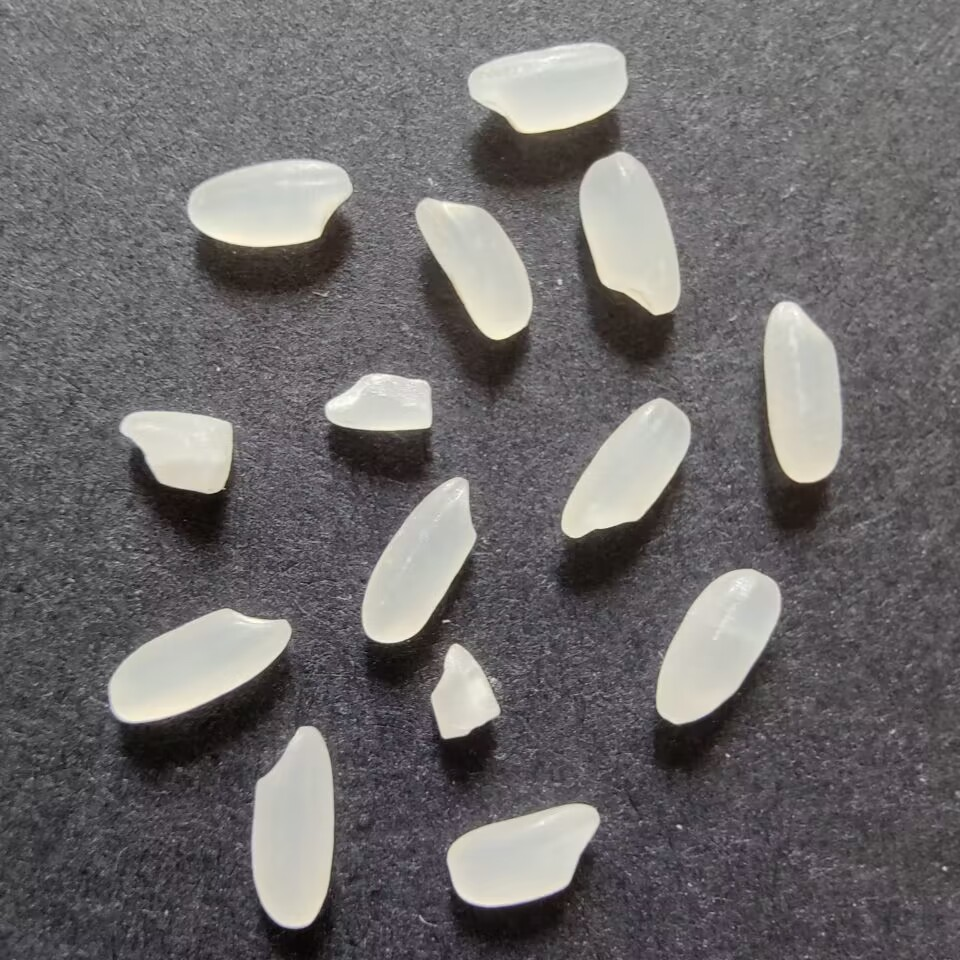broken: (114, 405, 238, 502), (424, 641, 507, 743), (318, 368, 435, 440)
rice: (104, 599, 300, 727), (651, 564, 784, 730), (358, 469, 481, 647), (554, 392, 695, 545), (410, 190, 536, 342), (247, 723, 337, 932), (574, 148, 682, 322), (443, 798, 602, 911), (757, 296, 848, 490), (462, 39, 632, 136), (181, 154, 355, 247)
